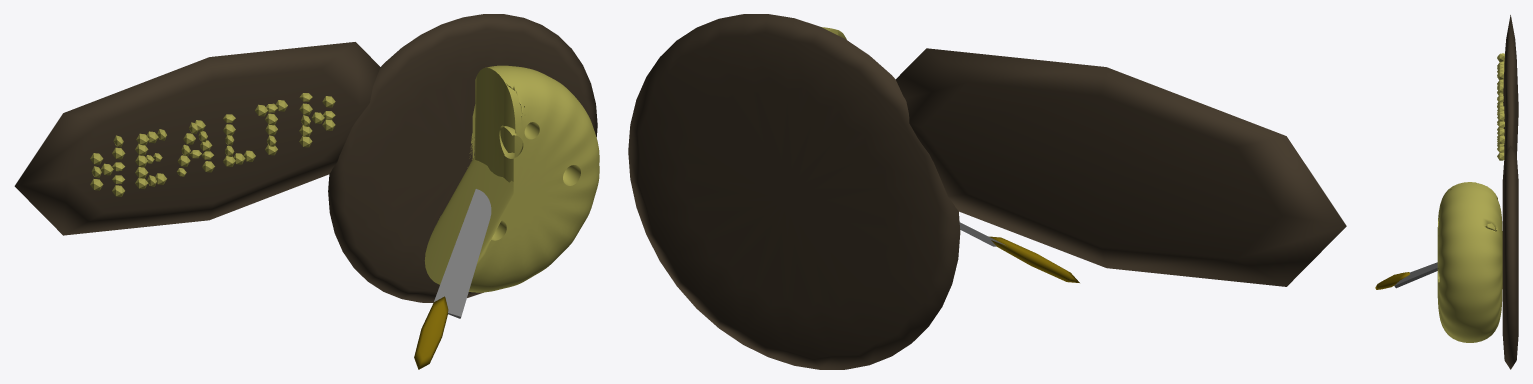
File: 67.5prcHealth_Bar.fbx
3 views of the same model, side by side, from view 1: azimuth 30°, elevation 25°; view 2: azimuth 150°, elevation 25°; view 3: azimuth 270°, elevation 25° (orthographic). The views are drawn at different scales.
Parts seen in each view (by area): view 1: pCube3, cheeseboard, polySurface1, pCube1, pCube2, polySurface2; view 2: cheeseboard, pCube3, pCube2; view 3: polySurface1, cheeseboard, pCube3, pCube1, polySurface2, pCube2.
Part boxes in pixels (x1,y1,x2,y2): pCube3: (14,42,380,235); cheeseboard: (328,14,597,302); polySurface1: (424,65,599,292); pCube1: (434,189,491,318); pCube2: (414,296,448,369); polySurface2: (488,65,585,189); cheeseboard: (628,14,960,369); pCube3: (895,48,1346,286); pCube2: (989,236,1079,282); polySurface1: (1437,183,1502,342); cheeseboard: (1502,145,1518,369); pCube3: (1503,15,1518,155); pCube1: (1394,262,1437,288); polySurface2: (1438,182,1502,301); pCube2: (1375,272,1409,289).
Size of the model in its own units: 29.91 by 14.91 by 8.84.
